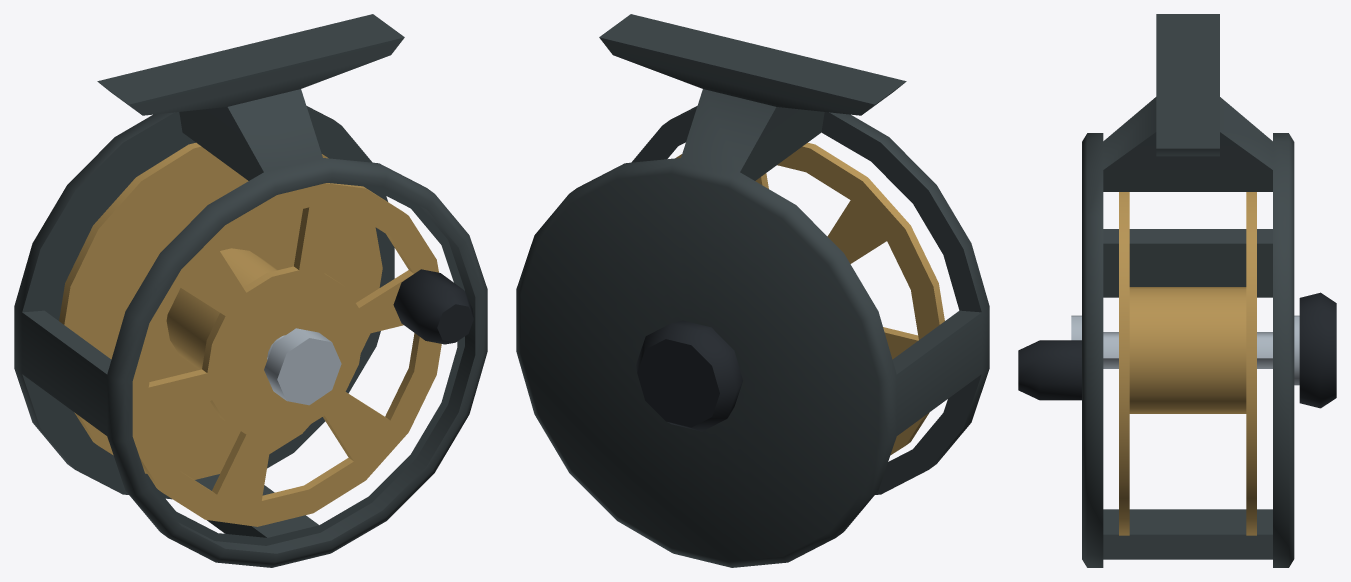
Rendered from reel_07_fly.glb.
3 renders of one model, left to right at view 1: azimuth 30°, elevation 25°; view 2: azimuth 150°, elevation 25°; view 3: azimuth 270°, elevation 25°, orthographic.
Visible parts, largest first — view 1: 07_fly__Continuous_frame_and_foot, 07_fly__Empty_spool, 07_fly__Handle_grip, 07_fly__Spool_bearing_seats; view 2: 07_fly__Continuous_frame_and_foot, 07_fly__Empty_spool, 07_fly__Rear_drag_dial; view 3: 07_fly__Continuous_frame_and_foot, 07_fly__Empty_spool, 07_fly__Rear_drag_dial, 07_fly__Handle_grip, 07_fly__Spool_support_axle, 07_fly__Spool_bearing_seats.
Boxes of the visible parts, x1,y1,x2,y2 form: 07_fly__Continuous_frame_and_foot: [14, 14, 487, 567]; 07_fly__Empty_spool: [59, 142, 441, 526]; 07_fly__Handle_grip: [393, 269, 473, 344]; 07_fly__Spool_bearing_seats: [264, 328, 341, 405]; 07_fly__Continuous_frame_and_foot: [516, 14, 989, 567]; 07_fly__Empty_spool: [675, 142, 944, 455]; 07_fly__Rear_drag_dial: [636, 320, 742, 431]; 07_fly__Continuous_frame_and_foot: [1082, 14, 1294, 567]; 07_fly__Empty_spool: [1119, 192, 1256, 535]; 07_fly__Rear_drag_dial: [1299, 292, 1336, 408]; 07_fly__Handle_grip: [1018, 340, 1081, 400]; 07_fly__Spool_support_axle: [1103, 332, 1272, 368]; 07_fly__Spool_bearing_seats: [1071, 315, 1299, 385].
Size of the model in its own units: 0.081 by 0.0965 by 0.06.
